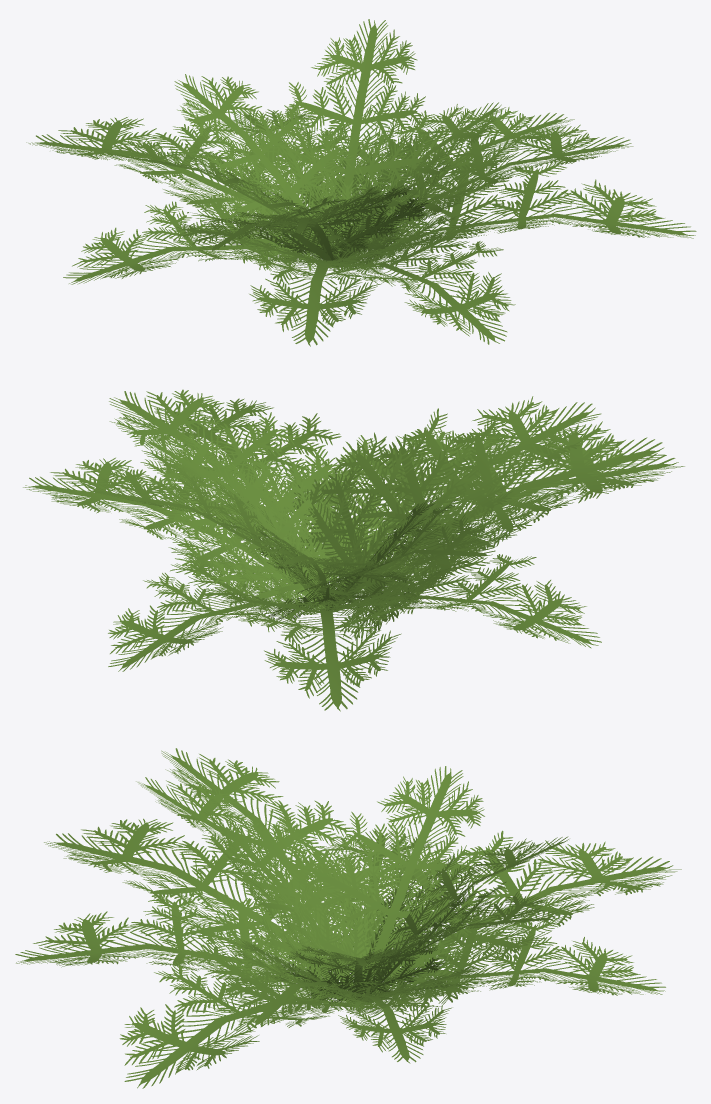
The model's file is BirdsNestSpruce1.fbx.
The picture shows the model from 3 angles, top to bottom: view 1: azimuth 30°, elevation 25°; view 2: azimuth 150°, elevation 25°; view 3: azimuth 270°, elevation 25°; orthographic projection. The views are drawn at different scales.
Visible parts, largest first — view 1: Bird's Nest Spruce 1; view 2: Bird's Nest Spruce 1; view 3: Bird's Nest Spruce 1.
Part boxes in pixels (x1,y1,x2,y2): Bird's Nest Spruce 1: [26, 19, 696, 346]; Bird's Nest Spruce 1: [23, 389, 684, 711]; Bird's Nest Spruce 1: [15, 748, 681, 1088].
Size of the model in its own units: 245 by 70.48 by 257.
